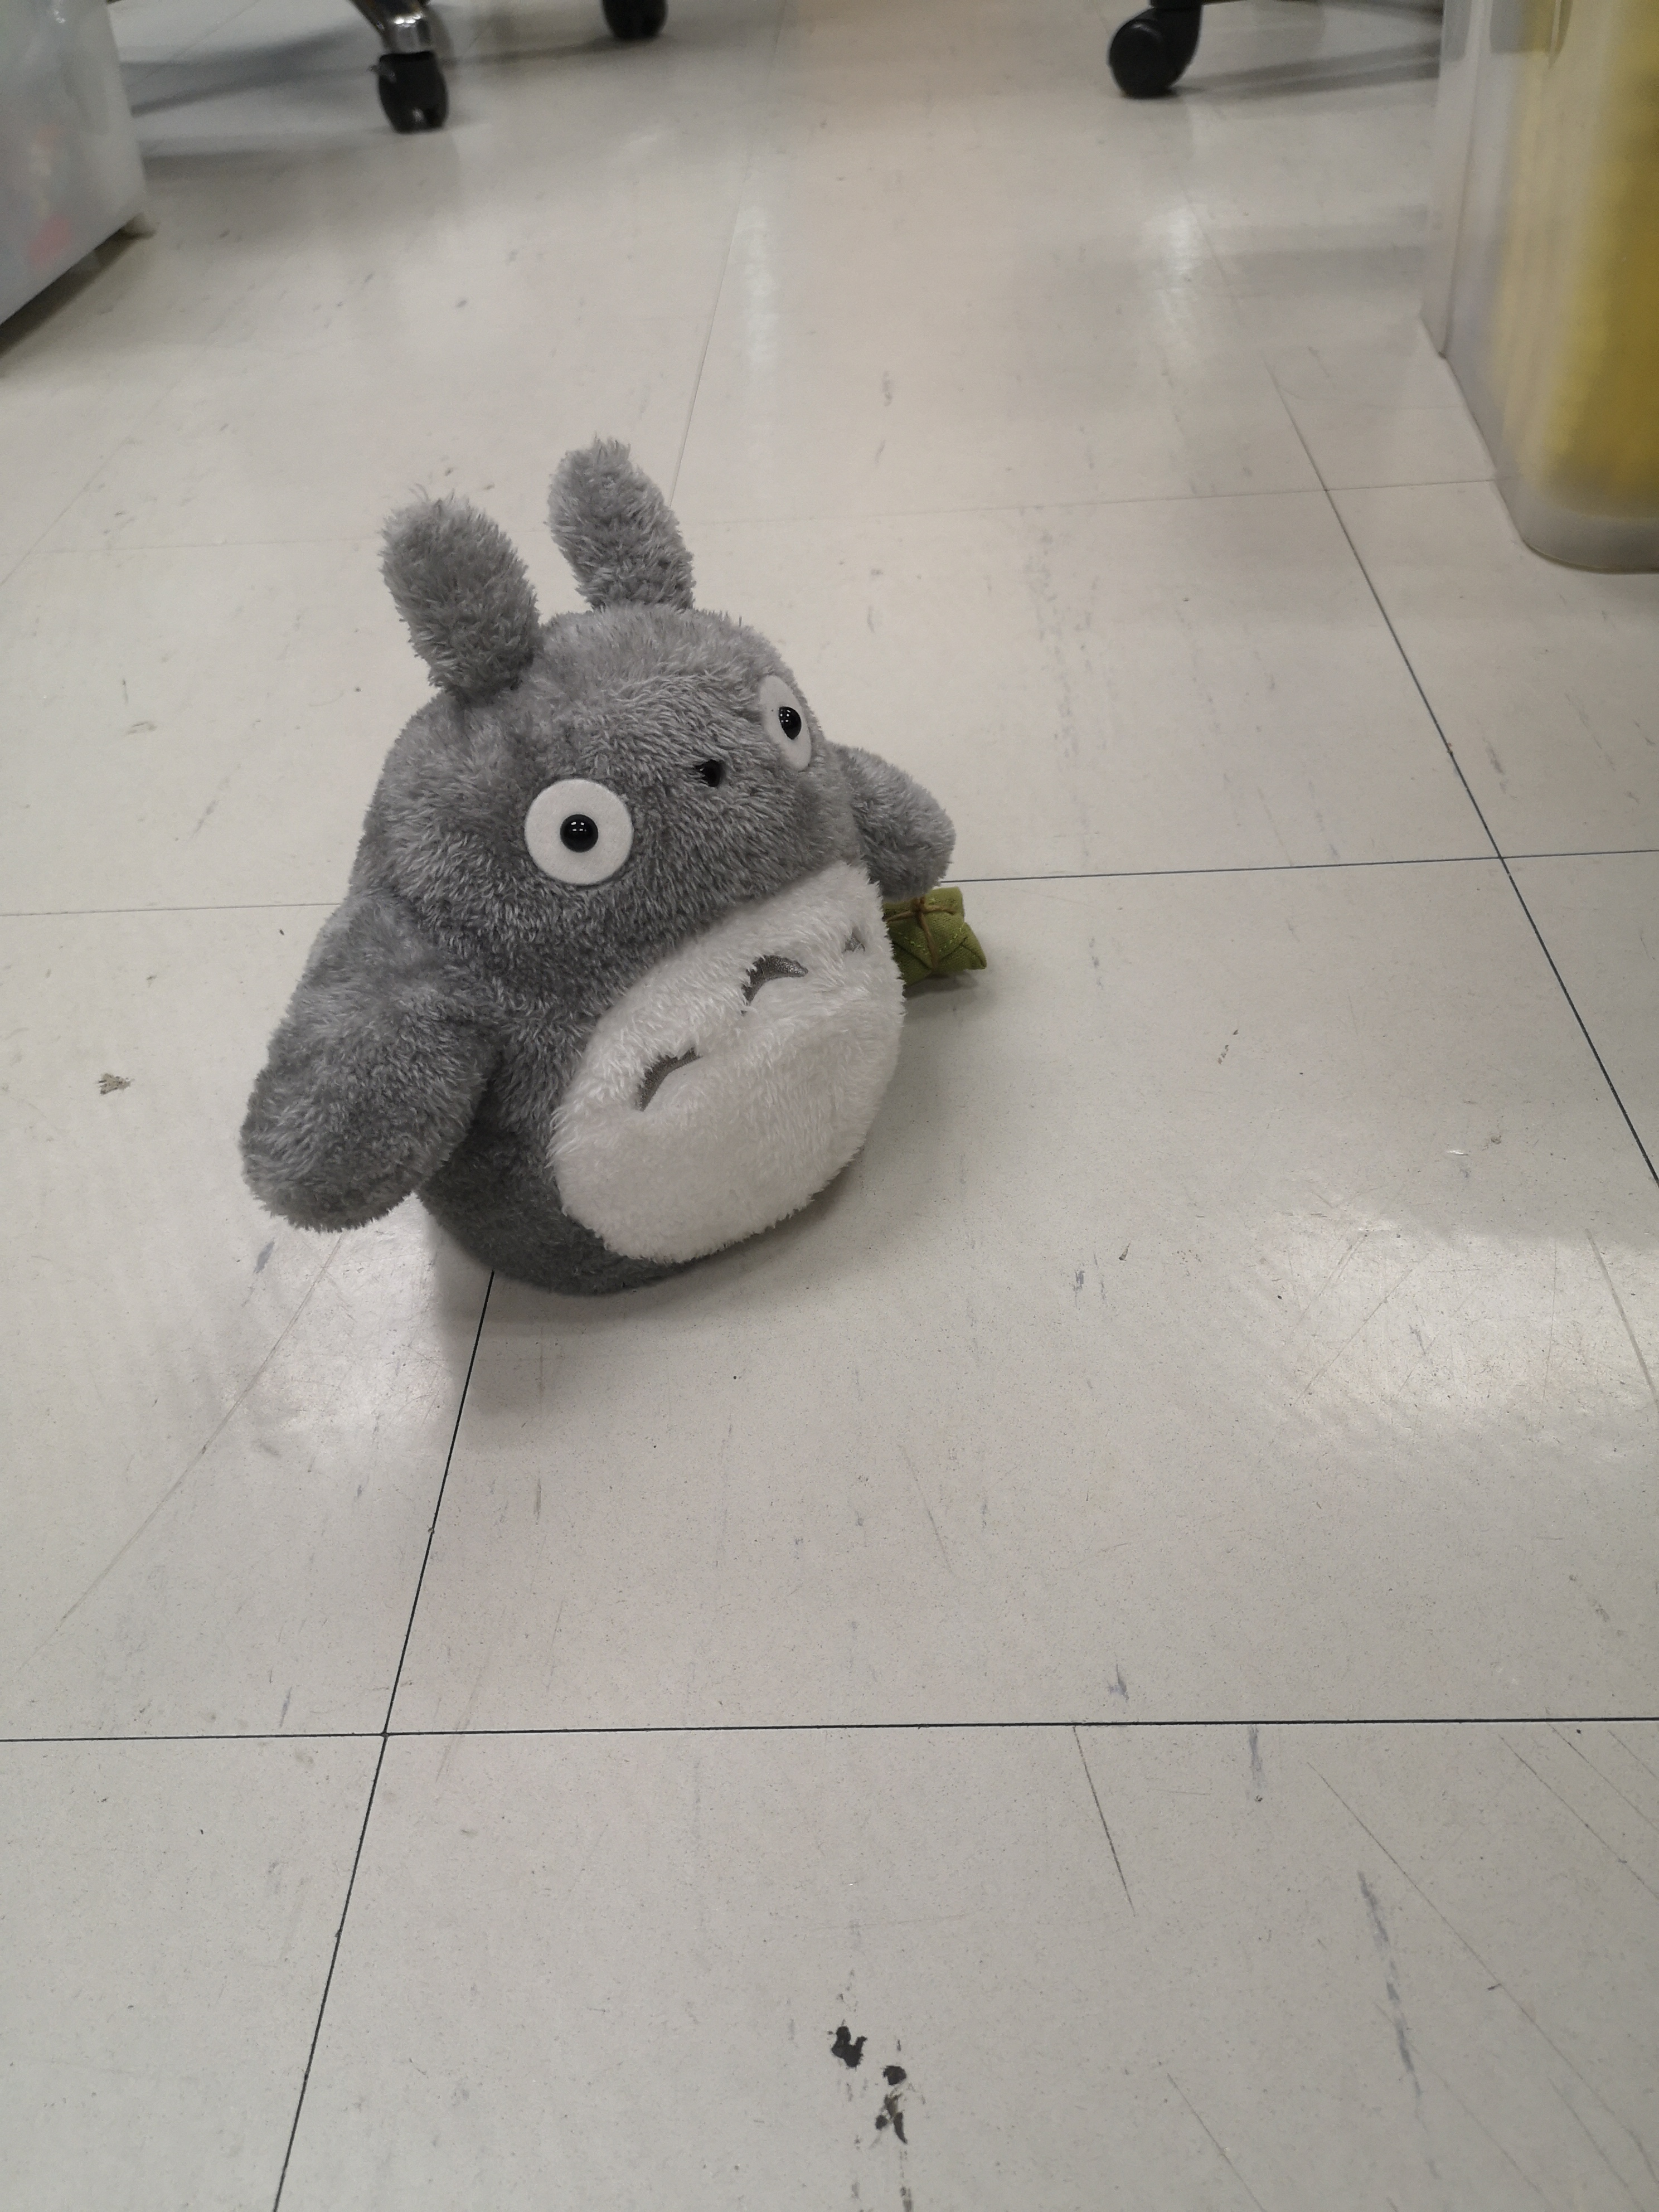totoro: (239, 423, 992, 1317)
